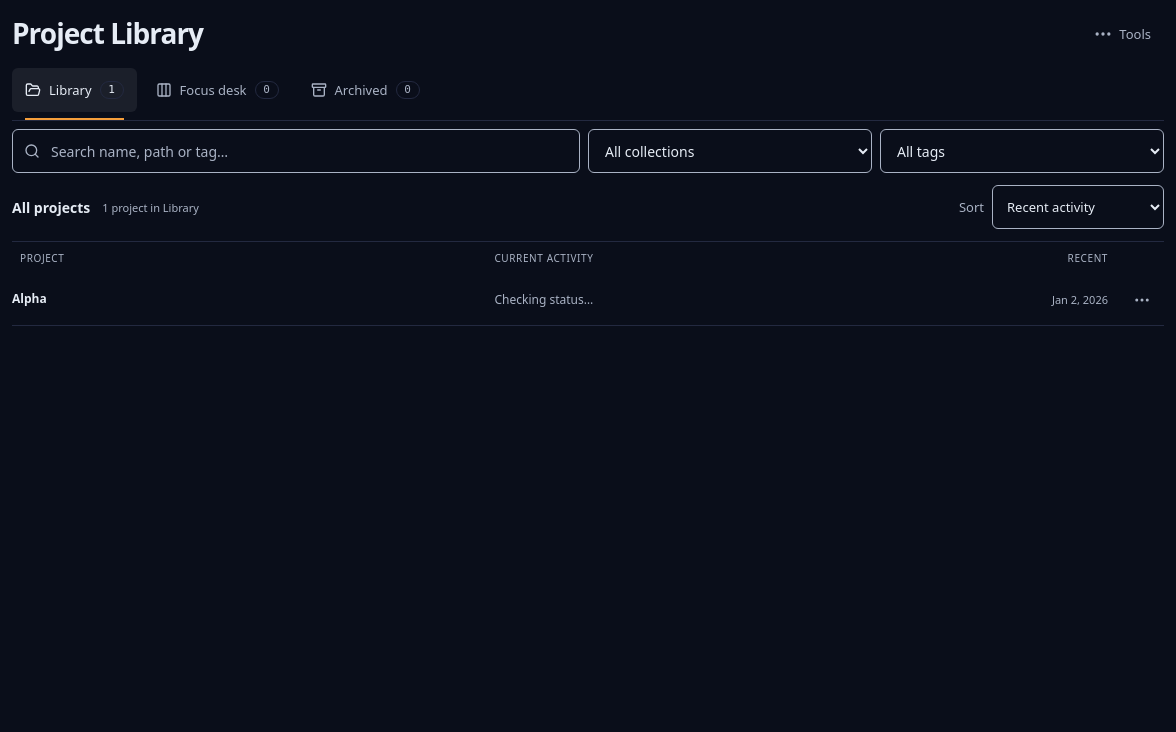
Library page states and affordances › keeps one clear-filters action for a no-match search and routes empty views onward
Expected: the button with aria-label "Open Alpha" is shown, [12,278,474,322]
In the search field named "Search projects": (296, 151) [12,129,580,173], type "Absent"
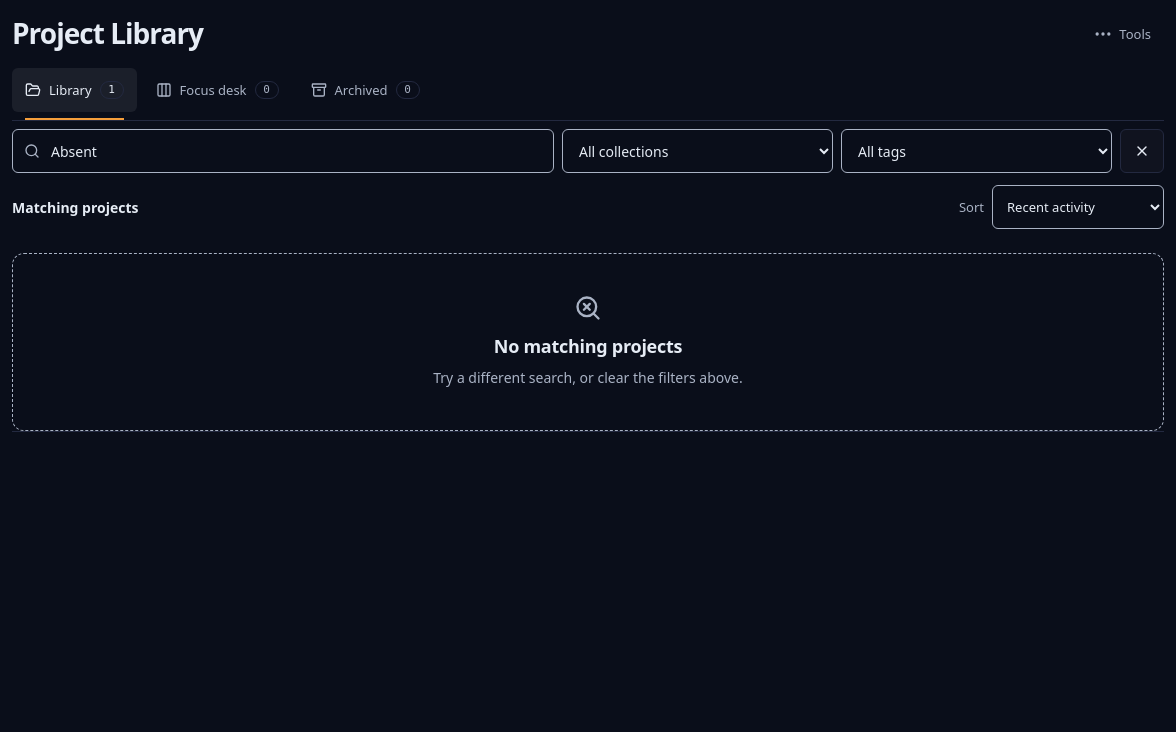
Result: the heading "No matching projects" is shown at [494,334,682,359]
Result: the number of buttons named "Clear search and filters" is 1
Click the button named "Clear search and filters": (1142, 151) [1120,129,1164,173]
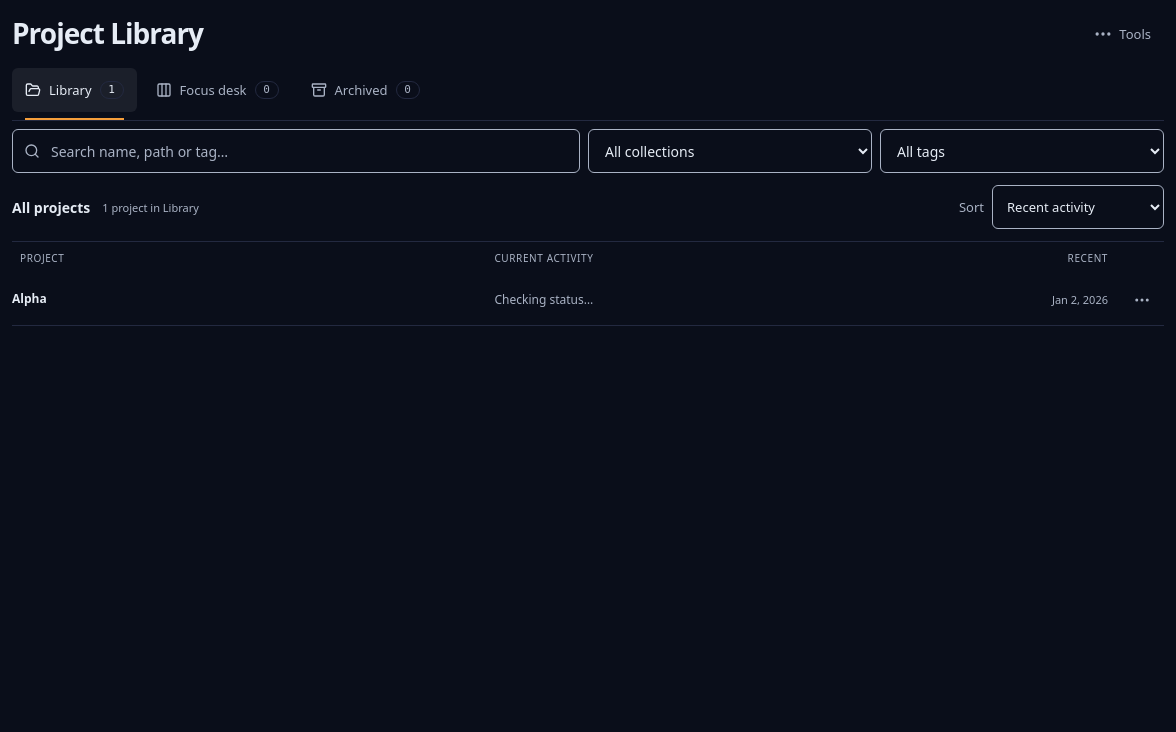
Click the button "Archived 0": (365, 90) [298,68,433,112]
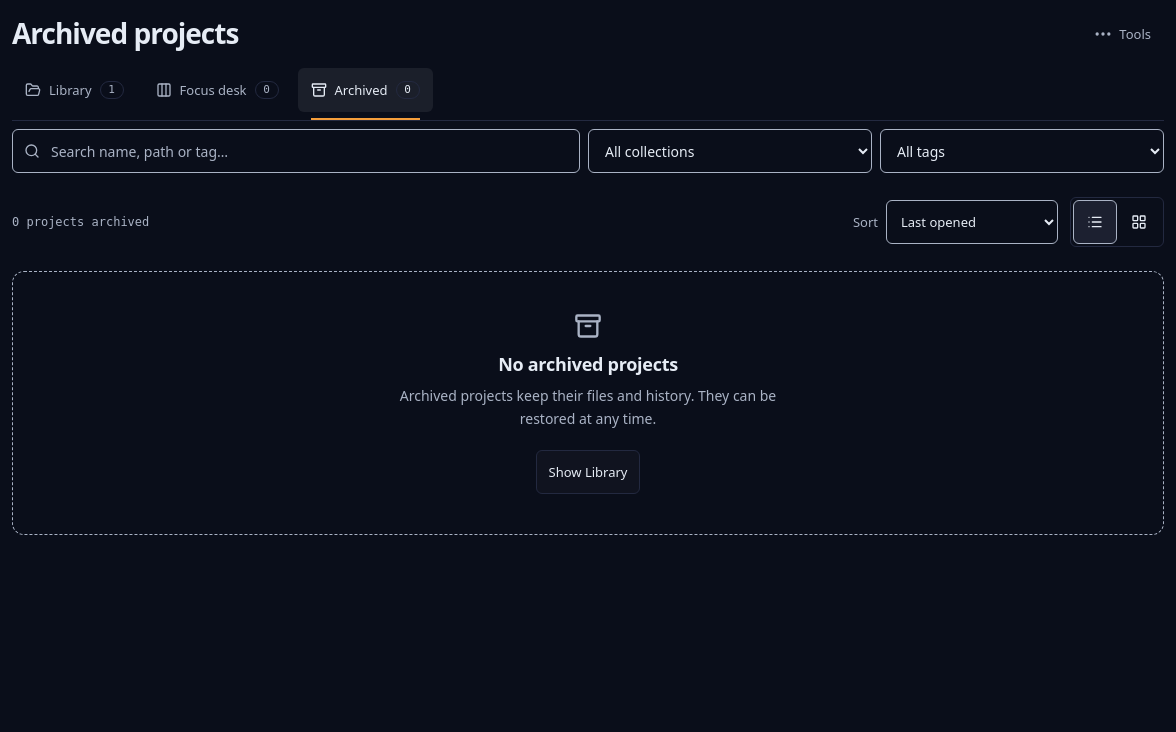
Result: the heading "No archived projects" is shown at [498,352,678,377]
Click the button "Show Library": (588, 472) [536,450,640,494]
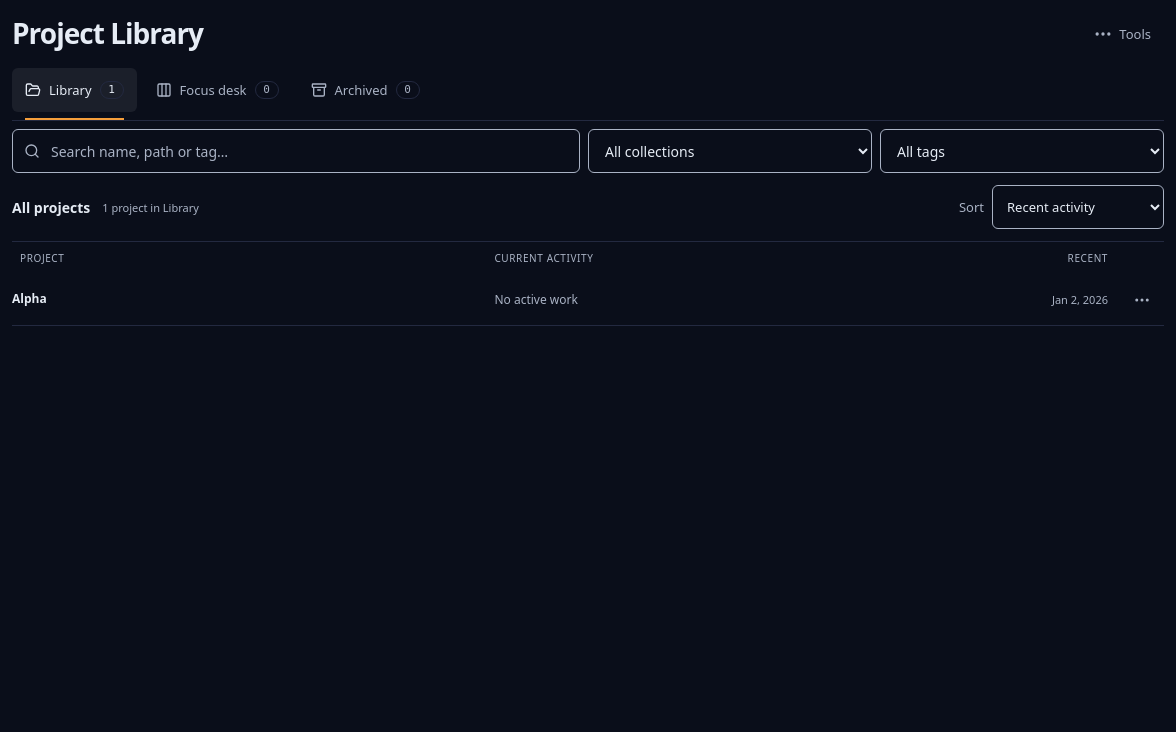
Result: the heading "Project Library" is shown at [12,17,203,51]
